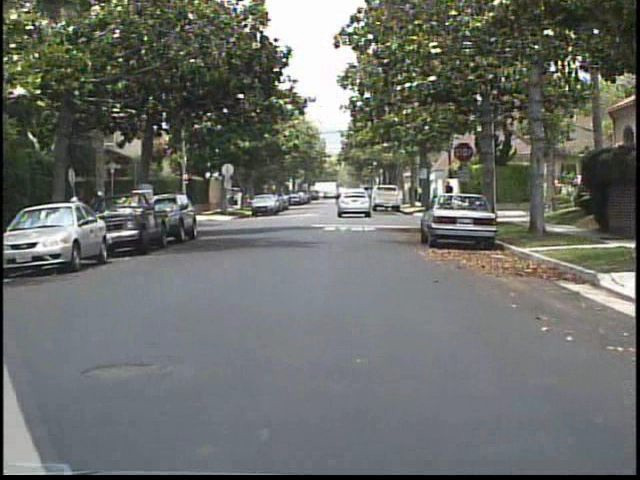person: (67, 187, 90, 248), (440, 177, 457, 213), (416, 182, 424, 203)
